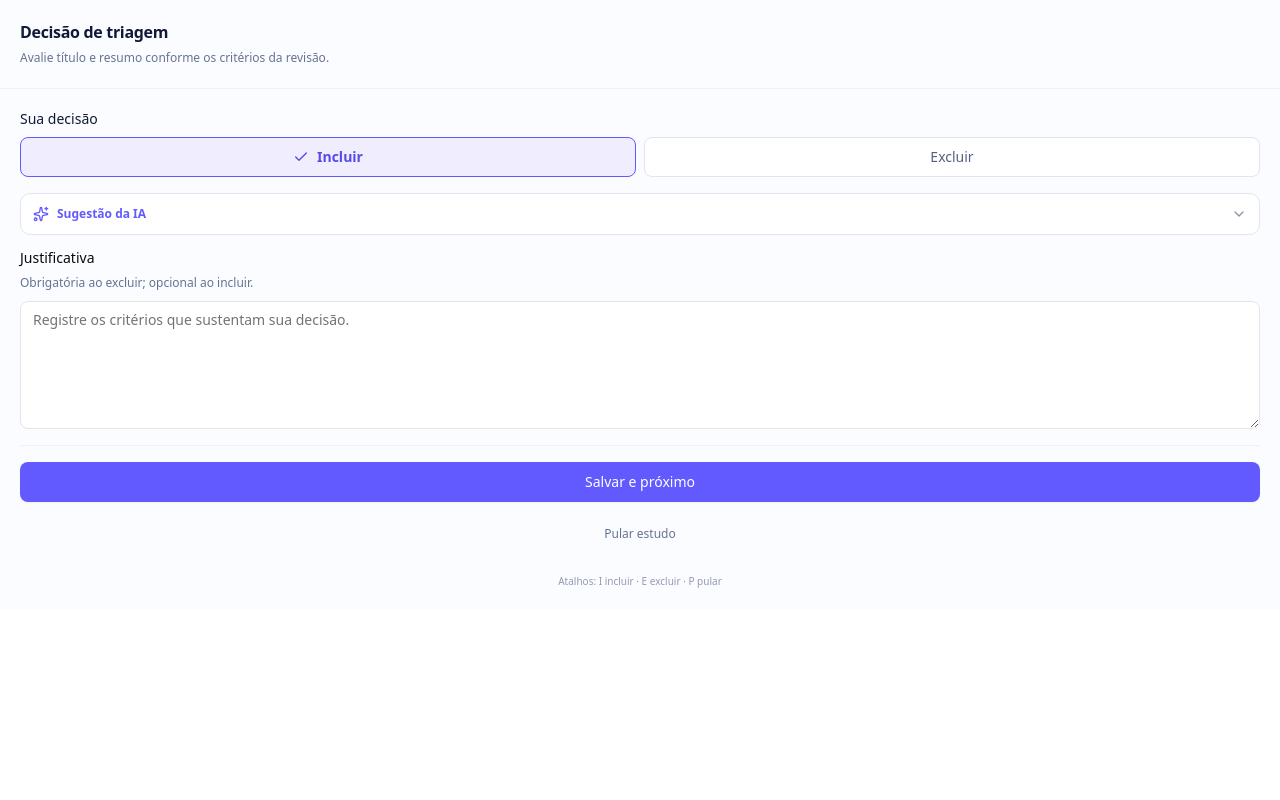
Test: ScreeningDecisionTool › requires a justification before excluding
This screenshot has width=1280, height=800.
Click the button "Excluir". click: (952, 157)
box: [644,137,1260,177]
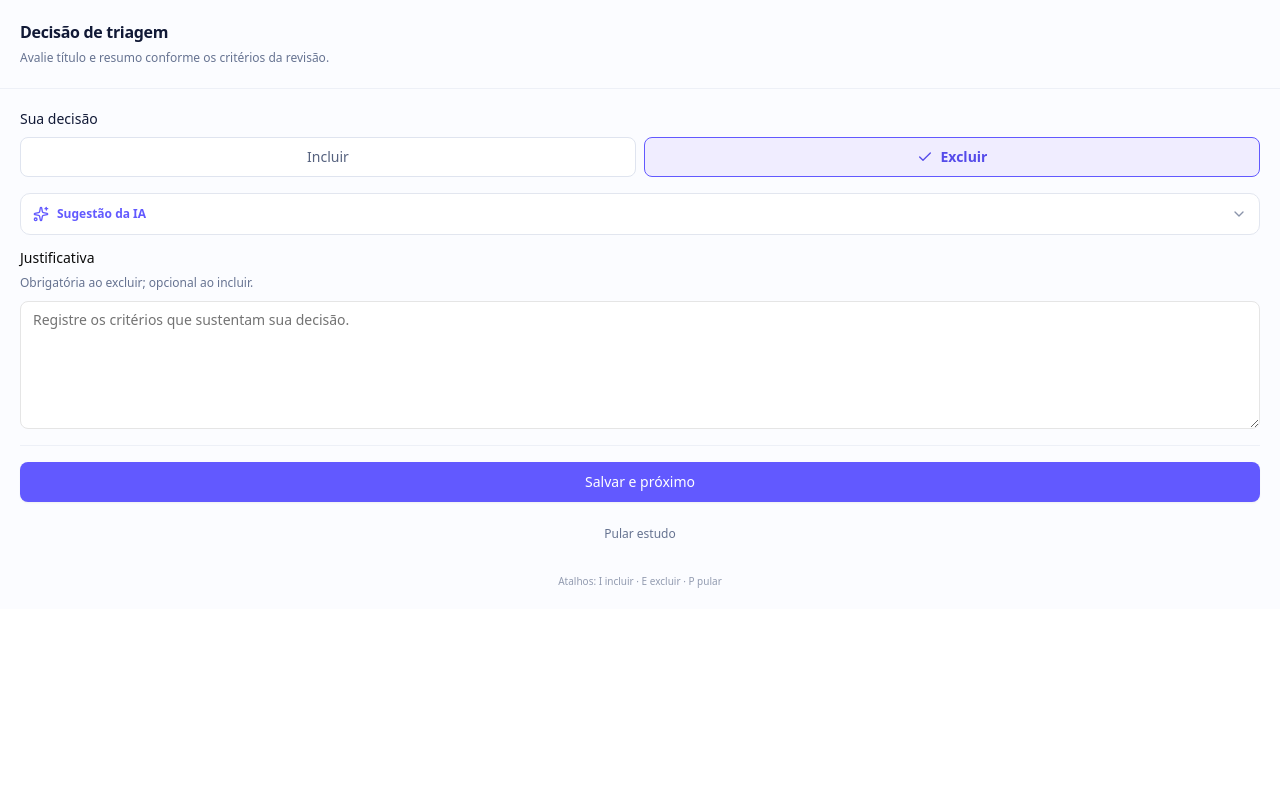
Click the button "Salvar e próximo". click: (640, 482)
box: [20,462,1260,502]
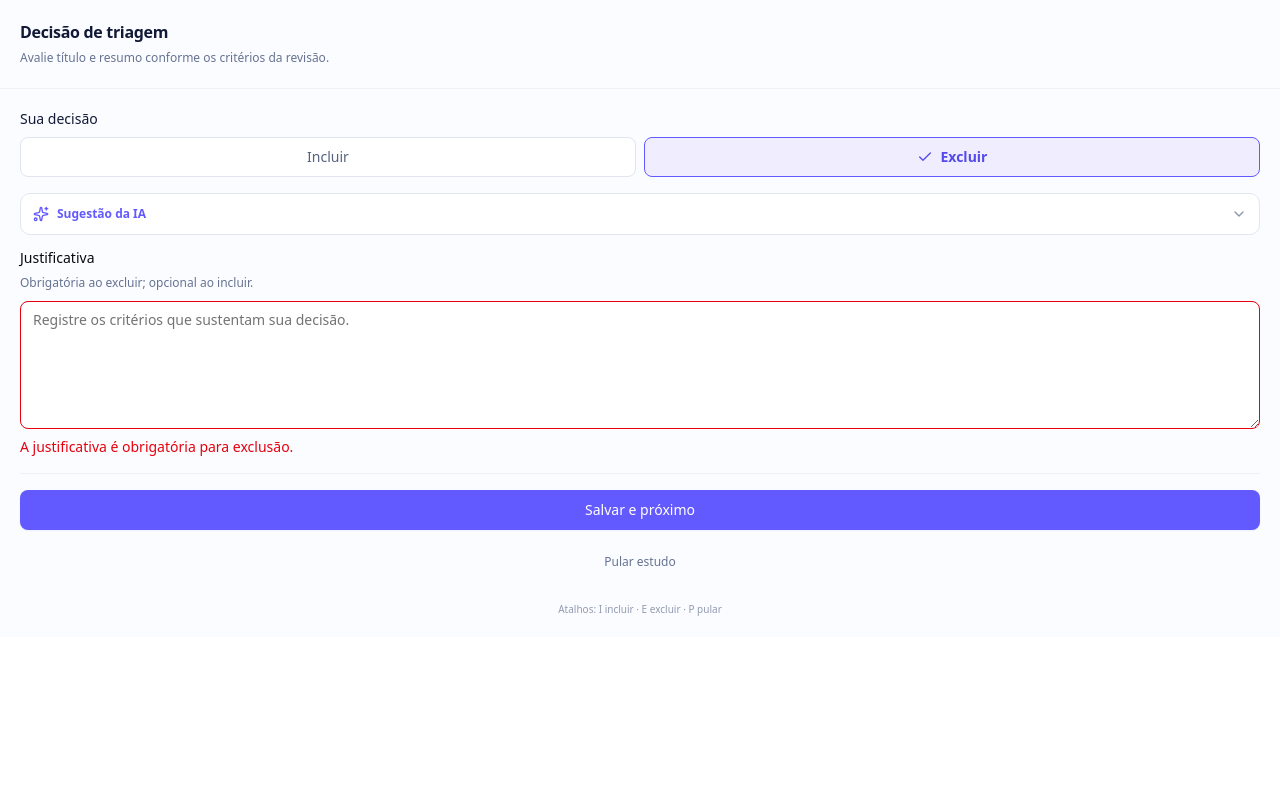
Check: the text "A justificativa é obrigatória para exclusão." is shown, box [20,437,293,456]
